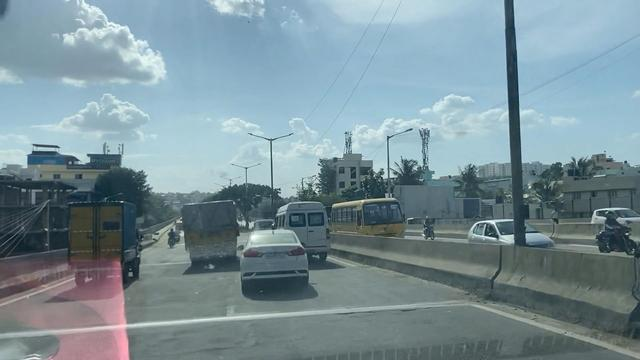HMV: (70, 203, 130, 289), (183, 206, 235, 262)
LMV: (244, 231, 310, 295)
UnsurfacedRoad: (14, 299, 469, 340)
